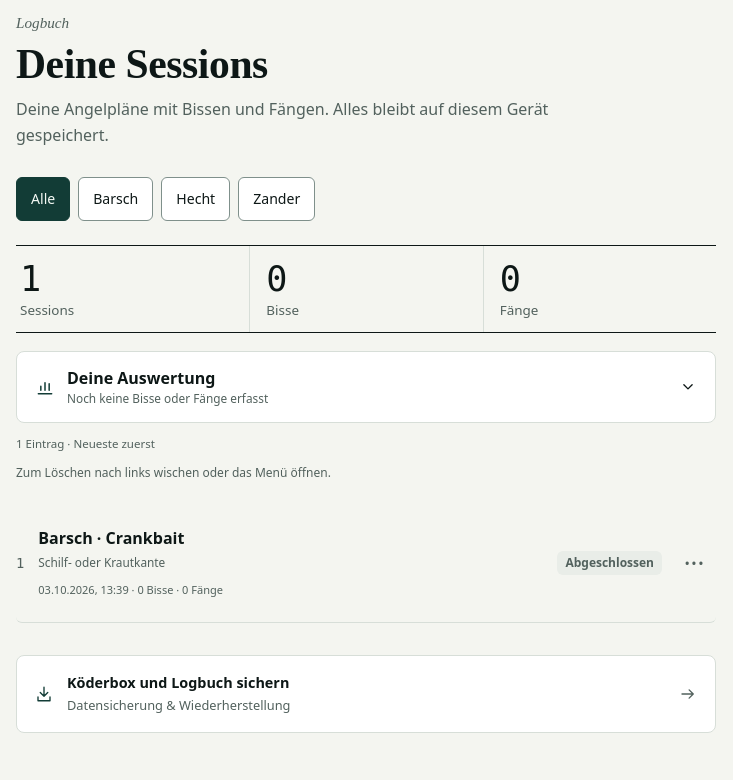
Scenario: Session-Nutzerablauf › löscht abgeschlossene Sessions ohne Browserdialog erst nach Bestätigung und dauerhaft
Click the button named "Session-Aktionen": click(694, 563) [672,541,716,585]
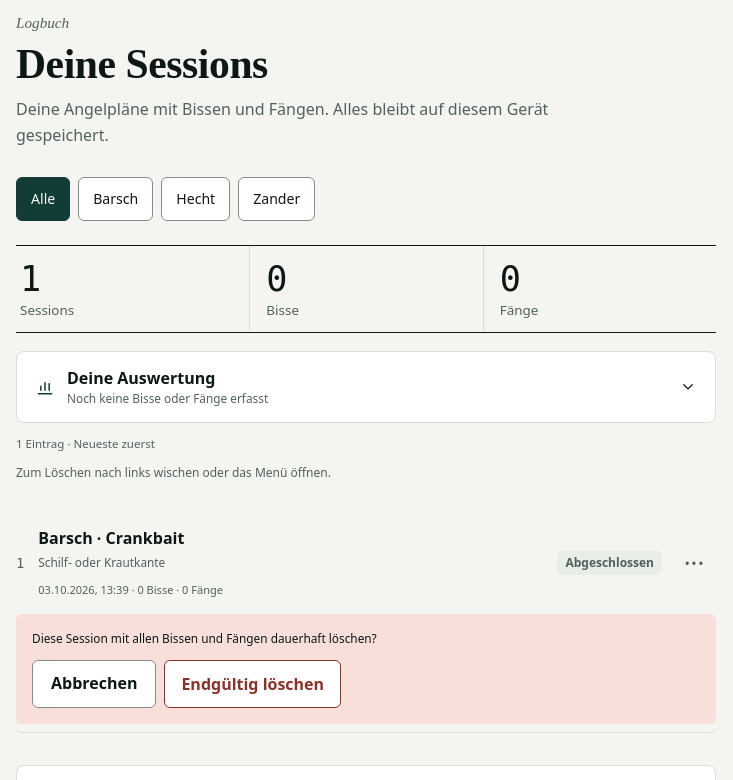
Click the button "Abbrechen": click(94, 684) [32,660,156,708]
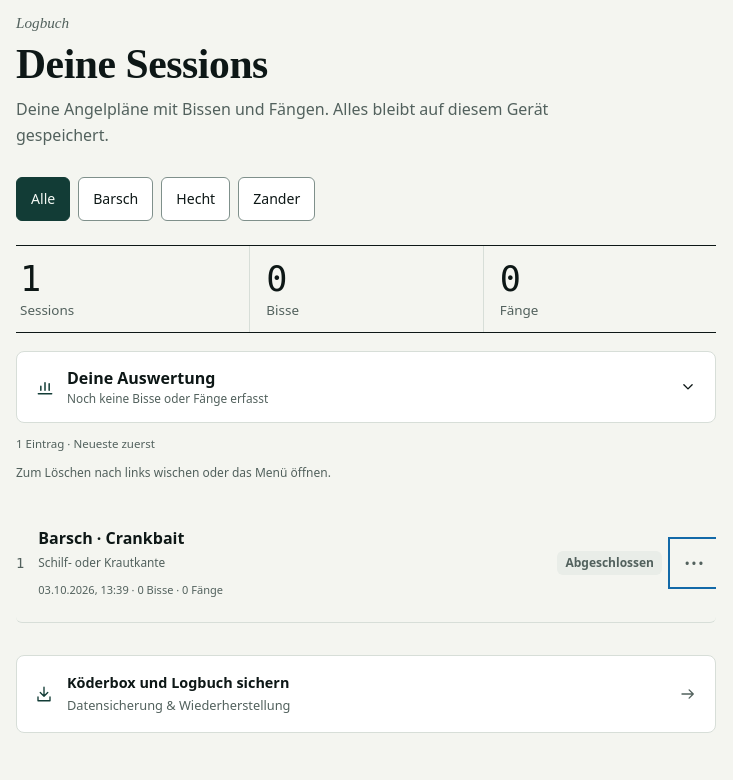
Click the button named "Session-Aktionen": click(694, 563) [672,541,716,585]
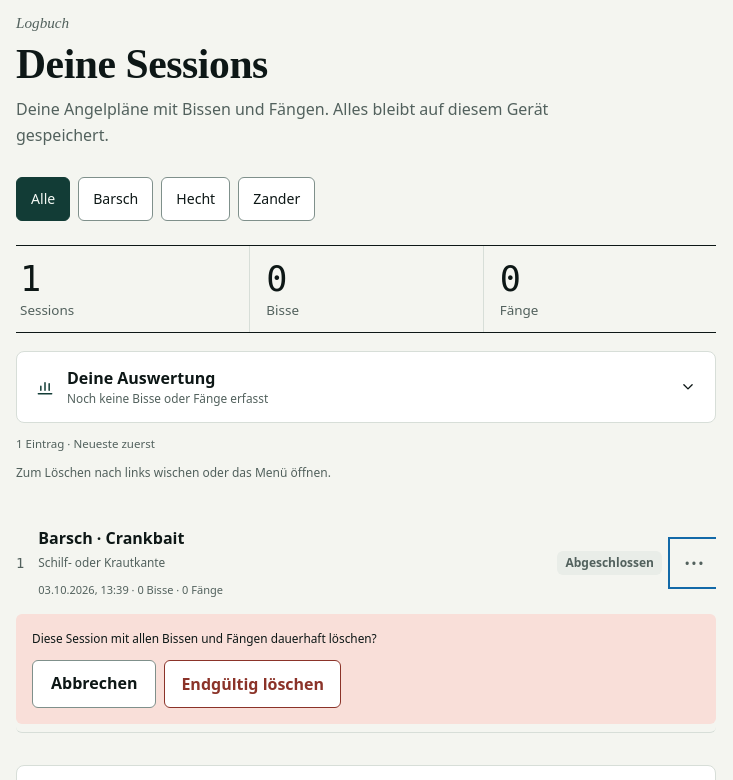
Click the button "Endgültig löschen": click(253, 684) [164,660,341,708]
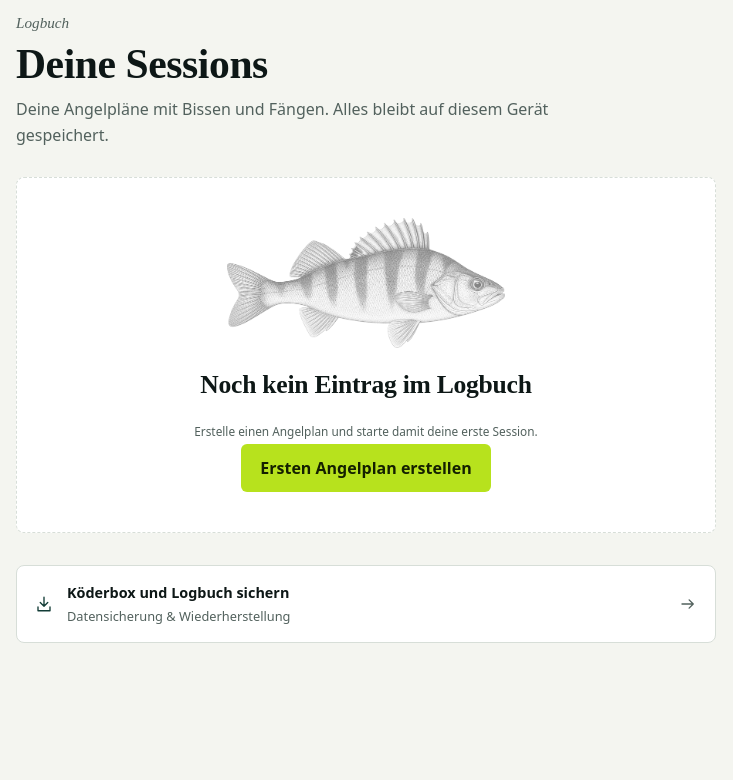
Now the heading "Noch kein Eintrag im Logbuch" is shown, box [200,370,532,399]
